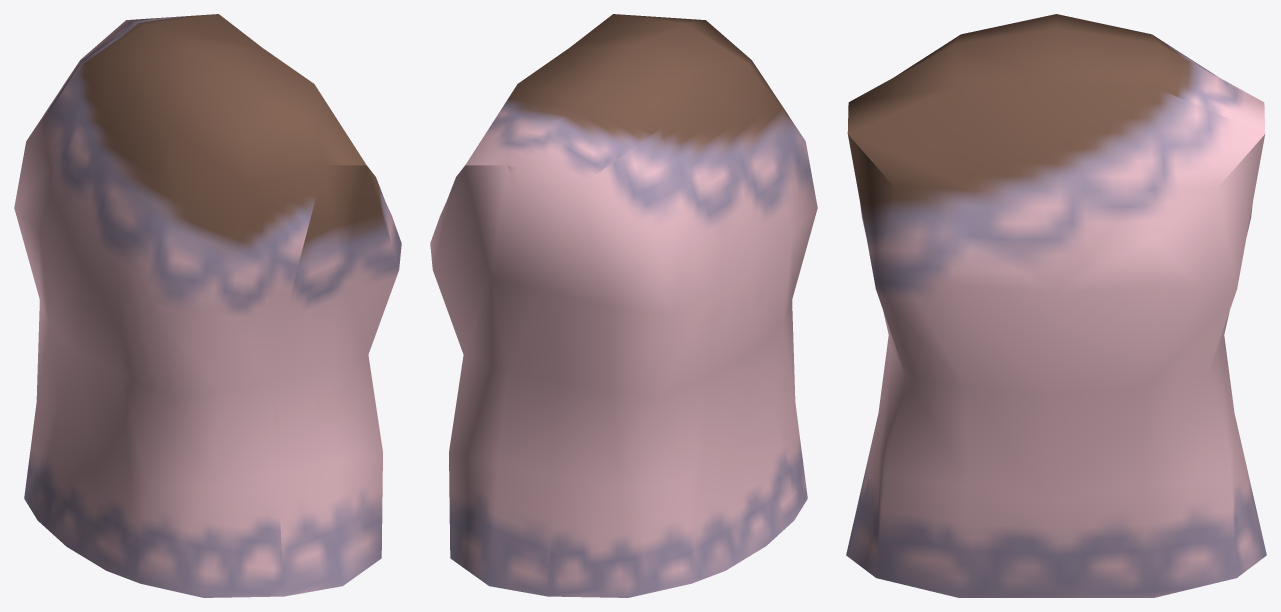
Rendered from Torso.fbx.
3 renders of one model, left to right at view 1: azimuth 30°, elevation 25°; view 2: azimuth 150°, elevation 25°; view 3: azimuth 270°, elevation 25°, orthographic. The views are drawn at different scales.
Visible parts, largest first — view 1: Torso; view 2: Torso; view 3: Torso.
Part boxes in pixels (box(x1,y1,x2,y2)): Torso: box(14, 14, 401, 597); Torso: box(430, 14, 817, 597); Torso: box(846, 14, 1266, 597).
Bounding box in the file's own units: 183 × 309 × 220.
